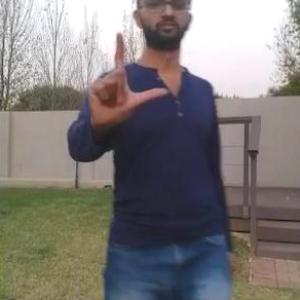land_hand: (83, 26, 169, 132)
